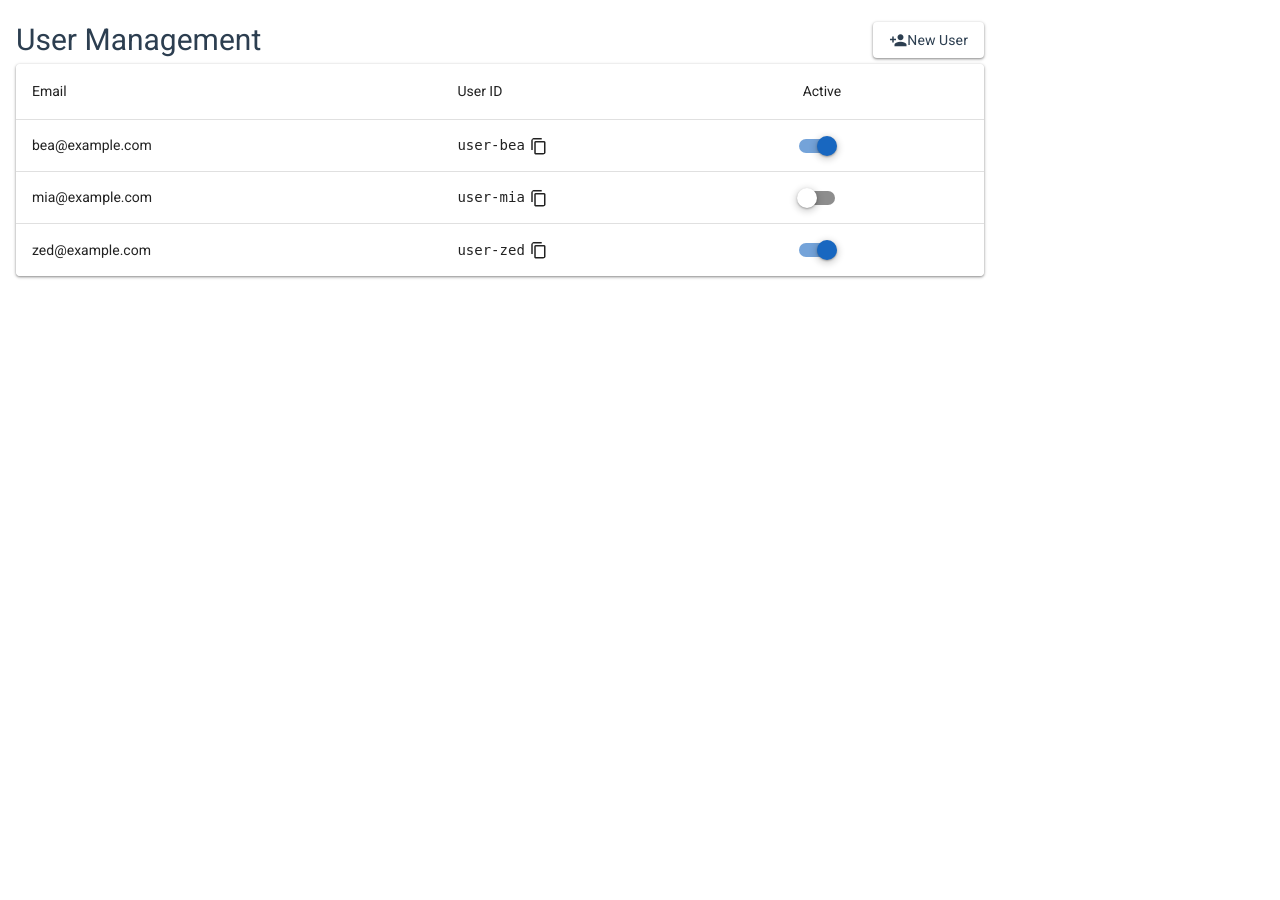
Test: UserManagementView › creates a user, shows the email-sent banner, and refreshes the list
Click the button with id "new-user-button" at (929, 40), box [873,22,984,58]
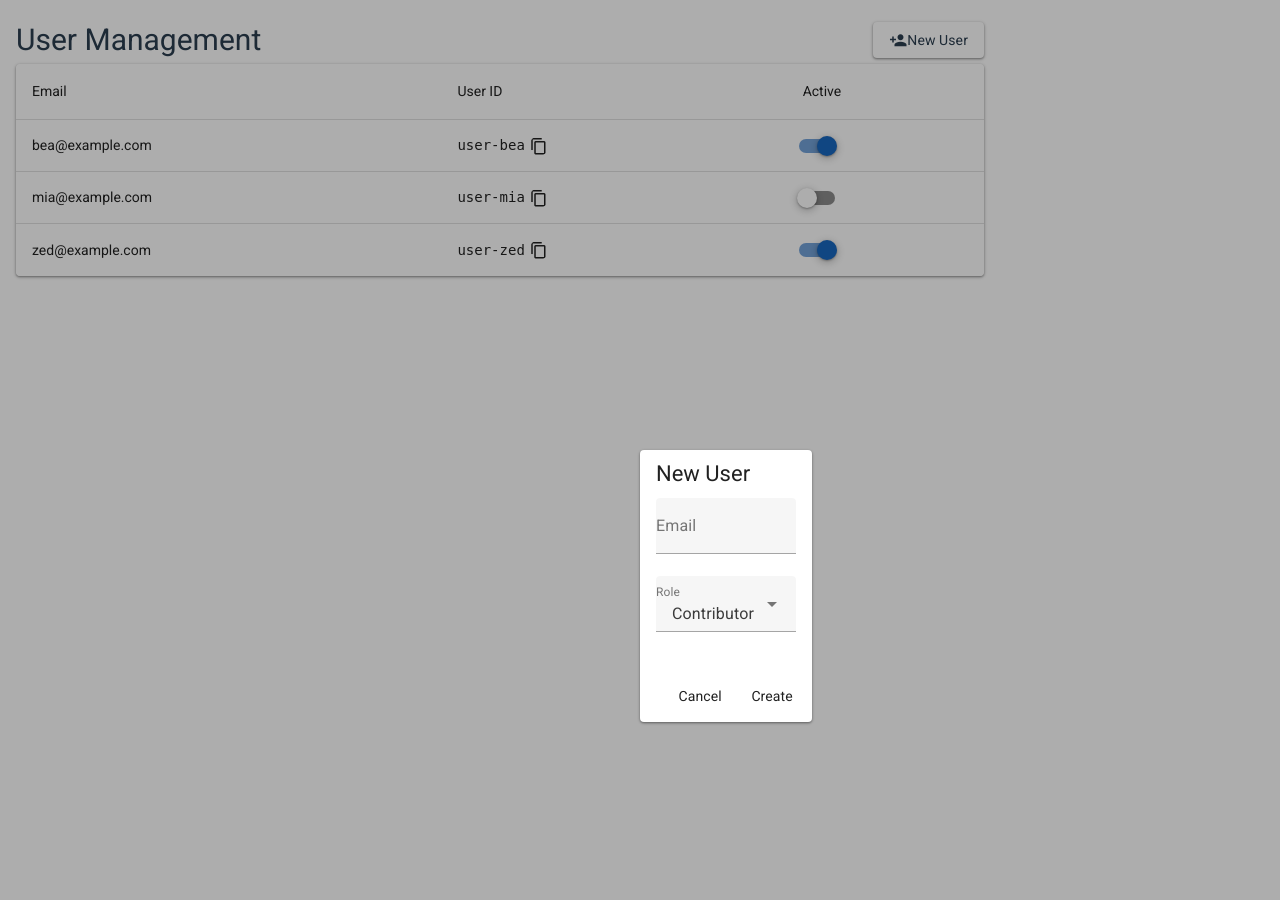
Type "new.hire@example.com" into the field with id "new-user-email" at (726, 526), box [656,498,796,554]
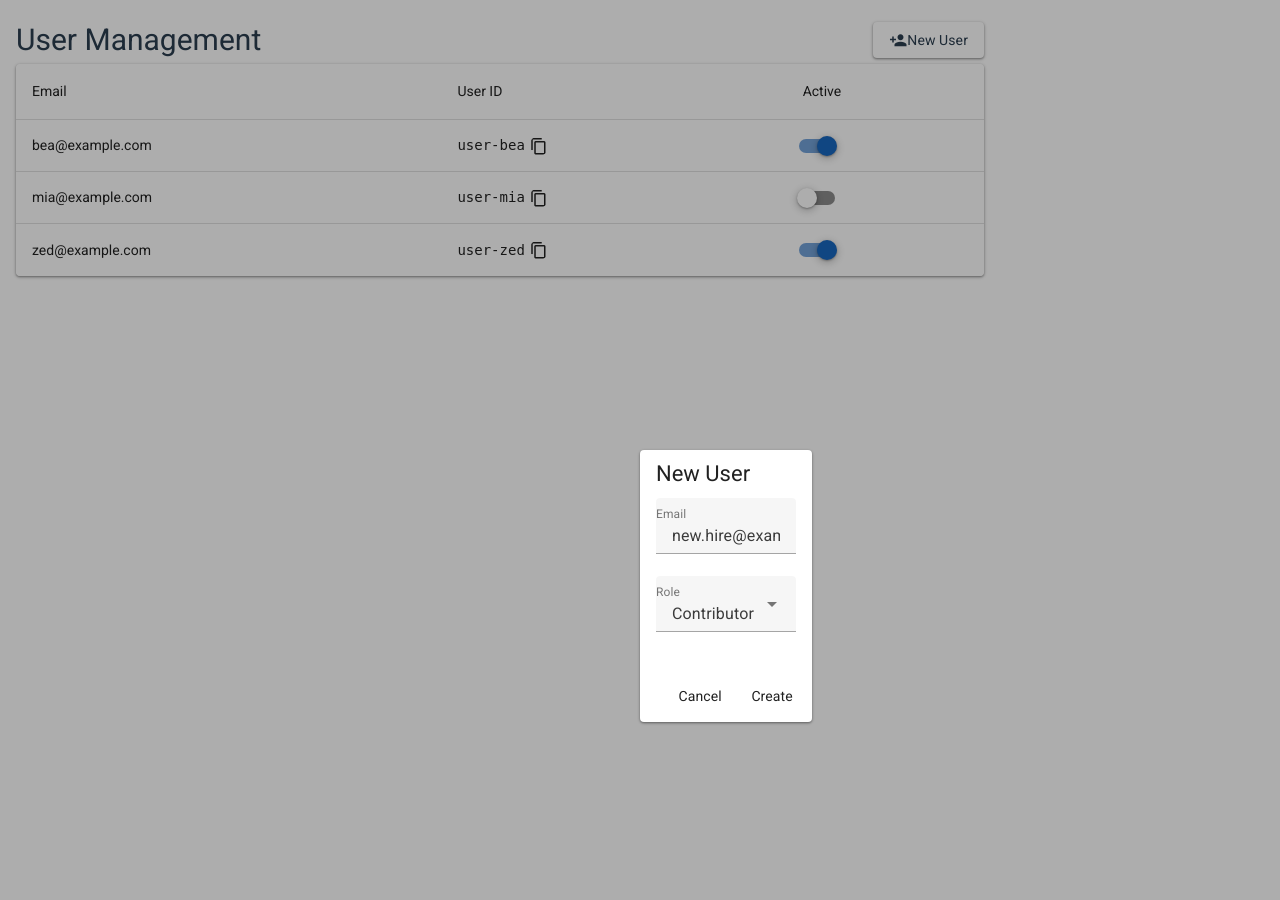
Click the button with id "confirm-create-user" at (772, 696), box [740,678,804,714]
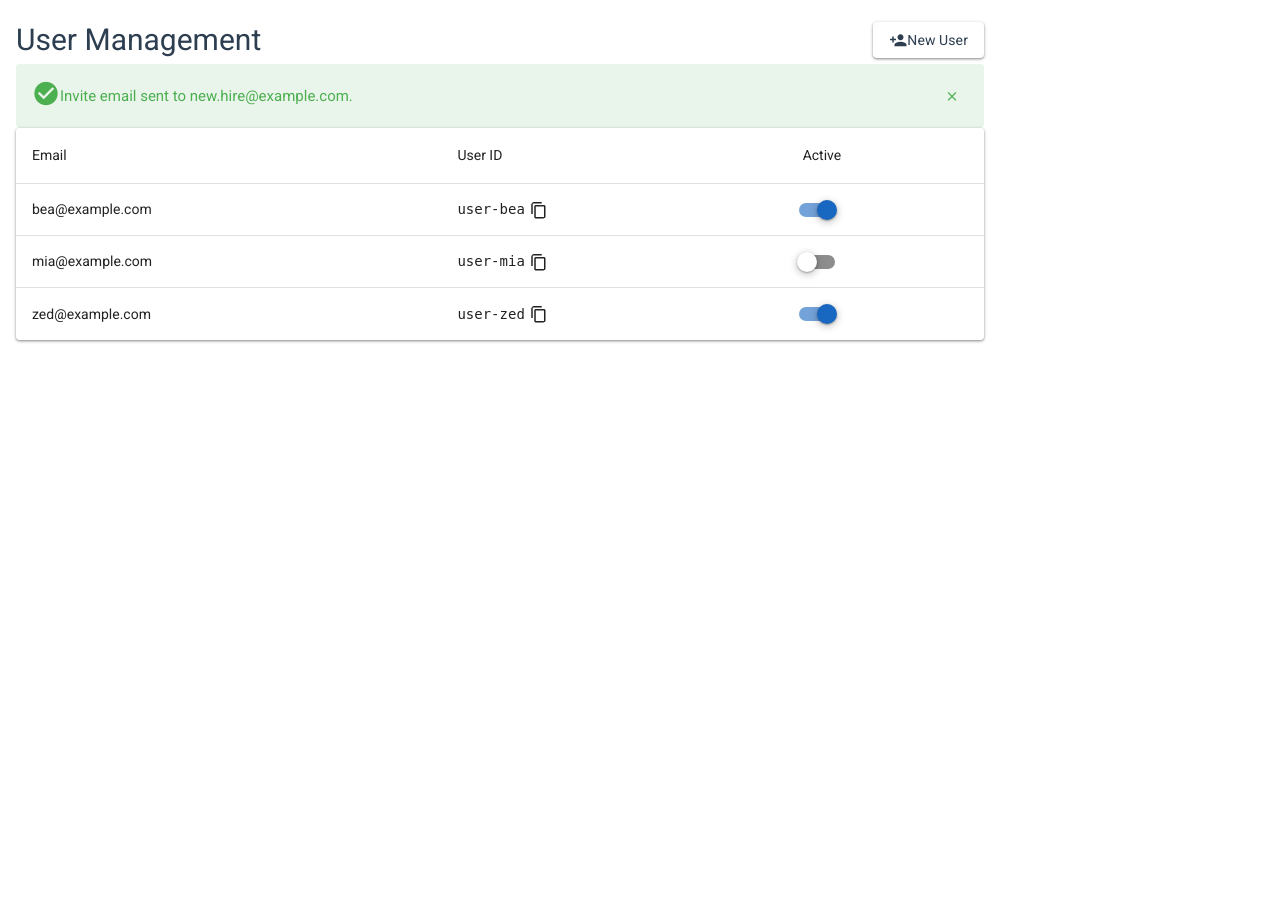
Now the text "Invite email sent to new.hire@example.com" is shown, box [60,87,353,105]
